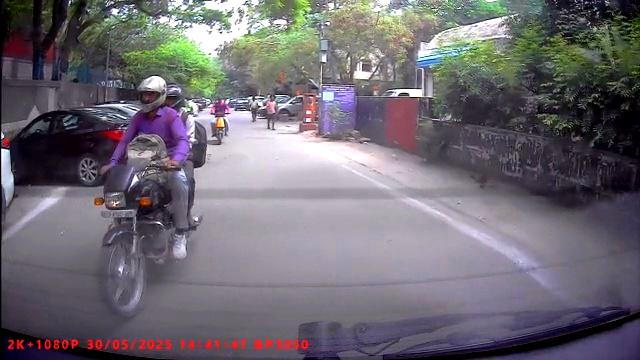motorcycle_with_helmet: (98, 73, 197, 322), (209, 93, 230, 146)
